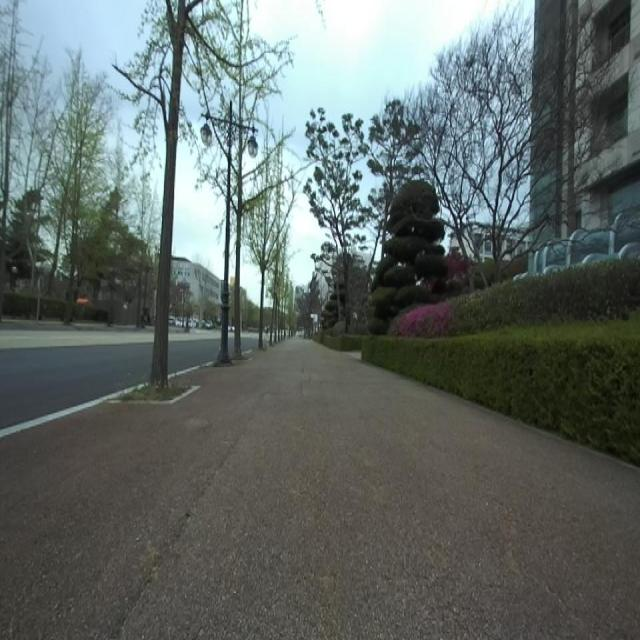sidewalk: (0, 340, 640, 639), (0, 384, 144, 441), (170, 362, 214, 377)
